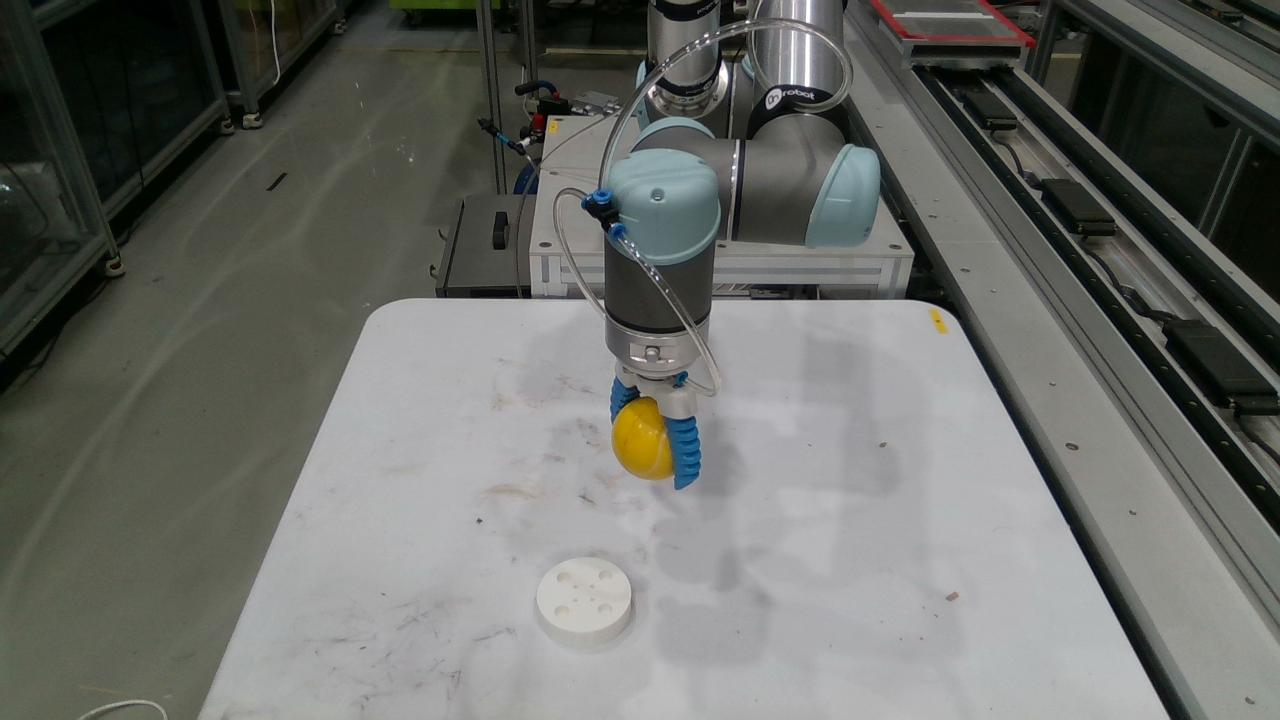UR5: (605, 0, 880, 419)
gripper_left: (610, 378, 639, 423)
gripper_right: (666, 416, 701, 489)
target: (535, 557, 633, 649), (612, 396, 674, 480)
